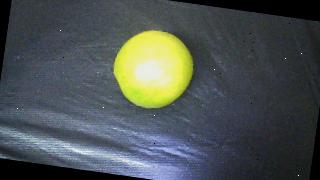LOCAL: (108, 26, 197, 114)
